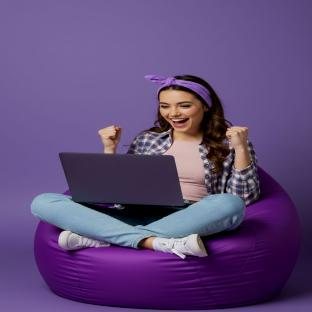Human: (31, 75, 260, 258), (98, 126, 121, 153)
